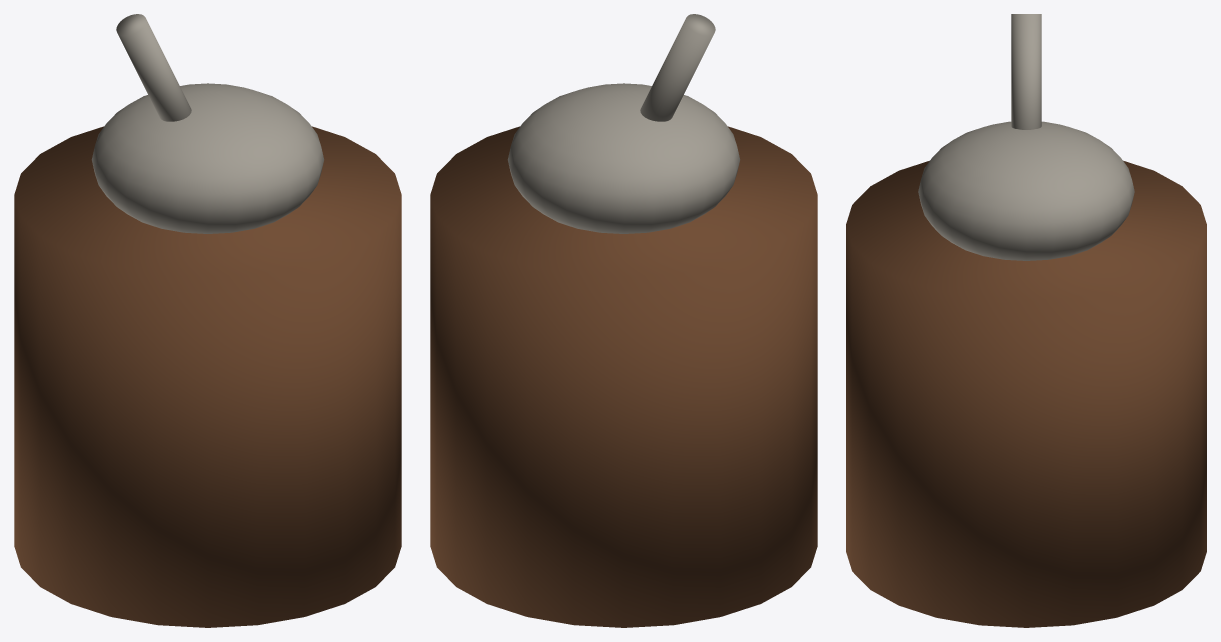
The model's file is SM_Mortar.fbx.
3 renders of one model, left to right at view 1: azimuth 30°, elevation 25°; view 2: azimuth 150°, elevation 25°; view 3: azimuth 270°, elevation 25°, orthographic. The views are drawn at different scales.
Visible parts, largest first — view 1: Stump, Bowl, Pestle; view 2: Stump, Bowl, Pestle; view 3: Stump, Bowl, Pestle.
Part boxes in pixels (box(x1,y1,x2,y2)): Stump: box(14, 126, 401, 627); Bowl: box(91, 83, 324, 233); Pestle: box(116, 14, 191, 121); Stump: box(430, 126, 817, 627); Bowl: box(507, 83, 740, 233); Pestle: box(640, 14, 715, 121); Stump: box(846, 160, 1206, 627); Bowl: box(918, 121, 1134, 260); Pestle: box(1011, 14, 1041, 129).
Size of the model in its own units: 0.6 by 0.9329 by 0.6.
